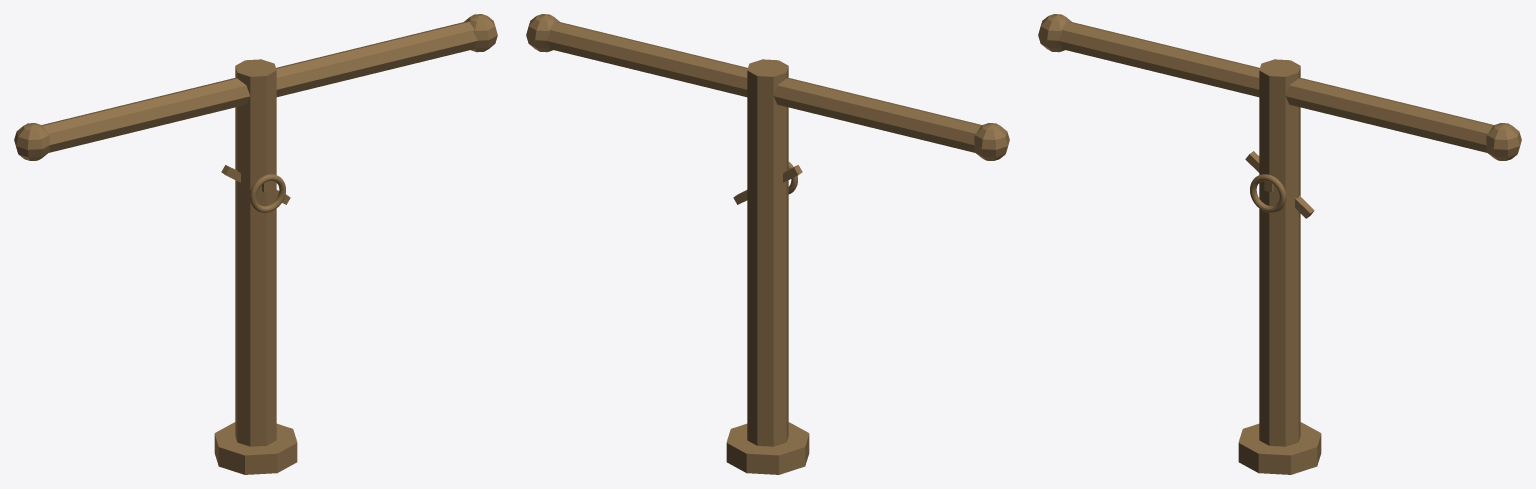
Rendered from hitching_post.glb.
3 renders of one model, left to right at view 1: azimuth 30°, elevation 25°; view 2: azimuth 150°, elevation 25°; view 3: azimuth 330°, elevation 25°, orthographic.
Parts seen in each view (by area): view 1: hitching_post; view 2: hitching_post; view 3: hitching_post.
Part boxes in pixels (left/top/right/bottom): hitching_post: left=14, top=14, right=497, bottom=474; hitching_post: left=526, top=14, right=1009, bottom=474; hitching_post: left=1038, top=14, right=1521, bottom=474.
Size of the model in its own units: 1.29 by 1 by 0.2.
